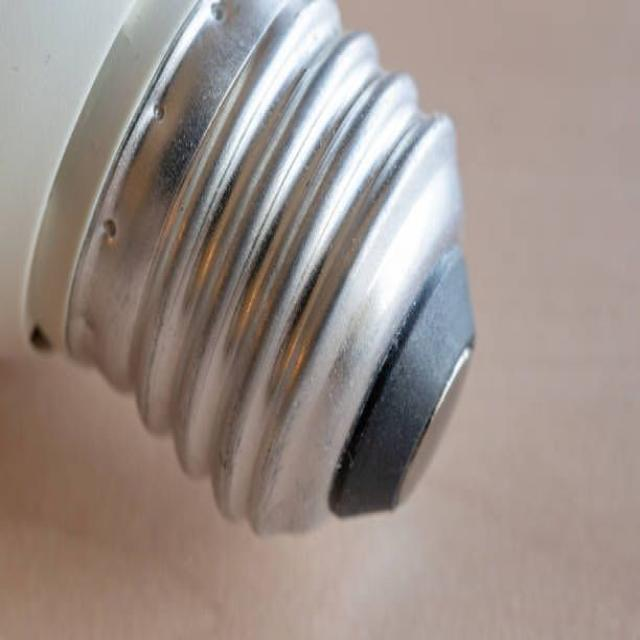electronic: (1, 0, 477, 540)
